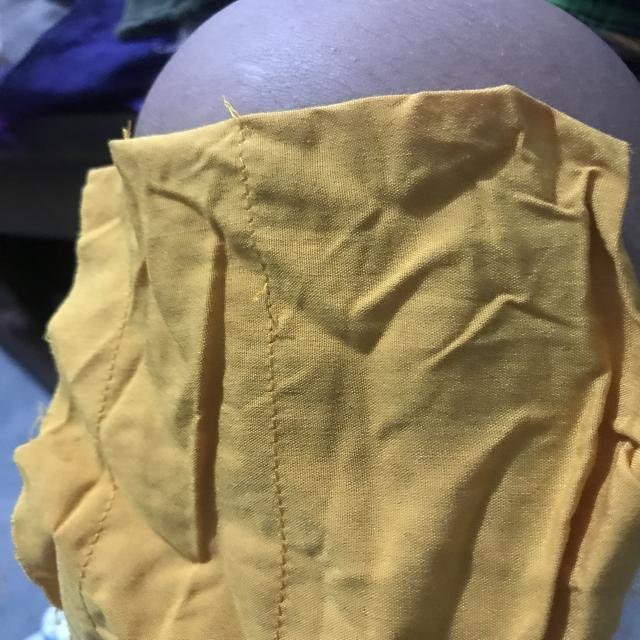broken: (242, 275, 304, 352)
good: (244, 399, 308, 554)
